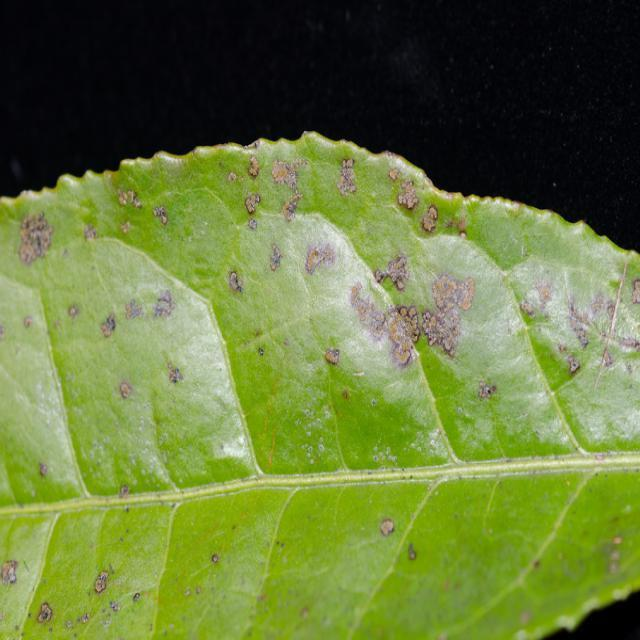Tea red rust: (16, 146, 614, 624)
